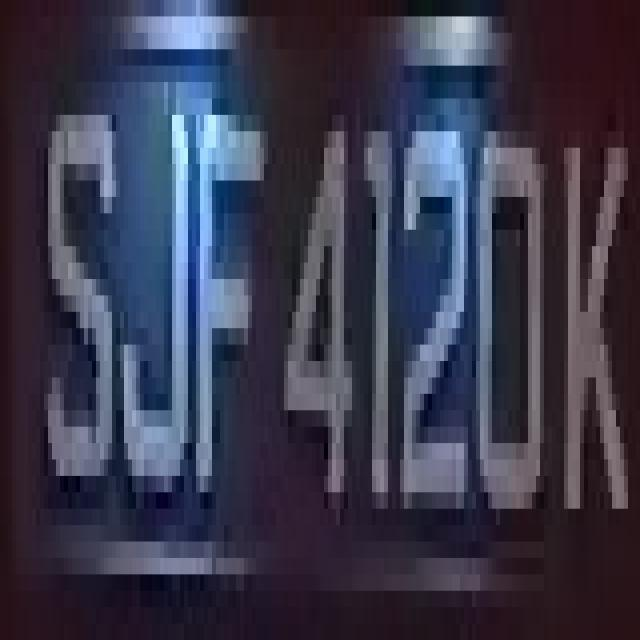0: (472, 82, 552, 542)
1: (364, 82, 396, 558)
2: (400, 82, 468, 542)
4: (280, 99, 360, 542)
F: (192, 66, 264, 525)
J: (116, 82, 192, 525)
K: (552, 66, 636, 624)
S: (40, 66, 116, 508)
